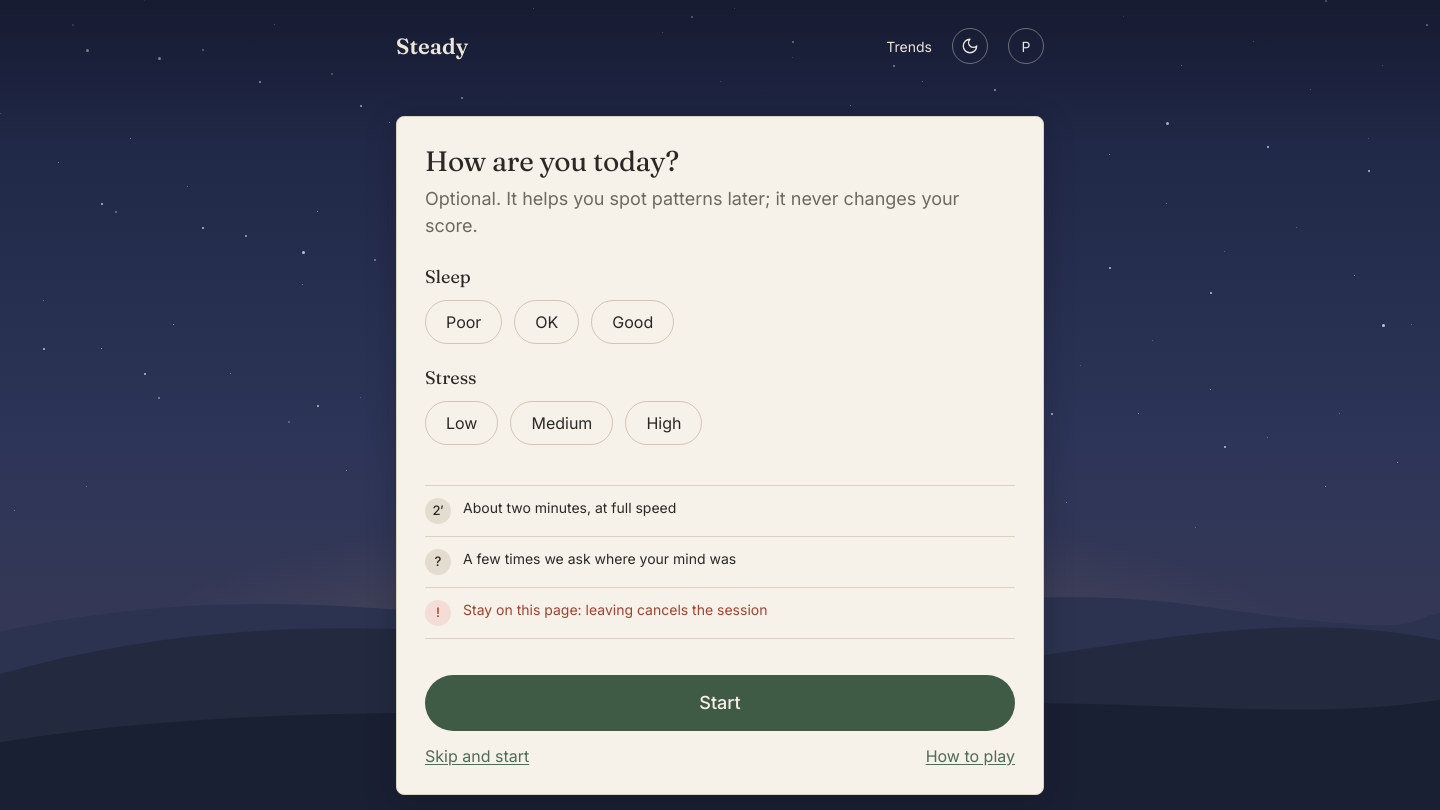
Scenario: Countdown › holds "the screen" in the key on a touch device
The width and height of the screenshot is (1440, 810).
expect the heading "How are you today?" is shown: met, box [425,144,679,178]
Click the button "Start": (720, 703) [425,675,1015,731]
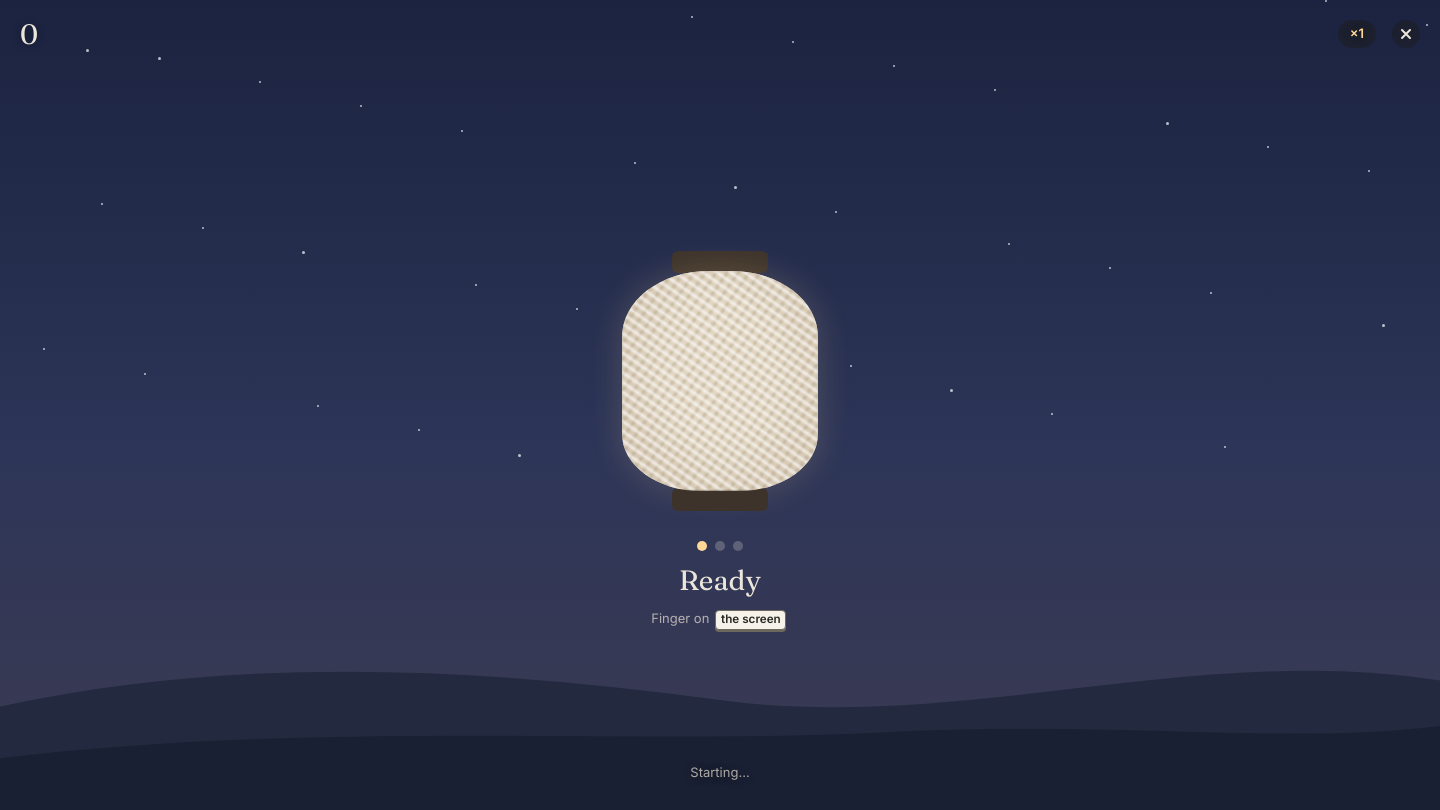
expect the element with test id "countdown" shows "Finger on the screen": met, box [651,541,789,632]
